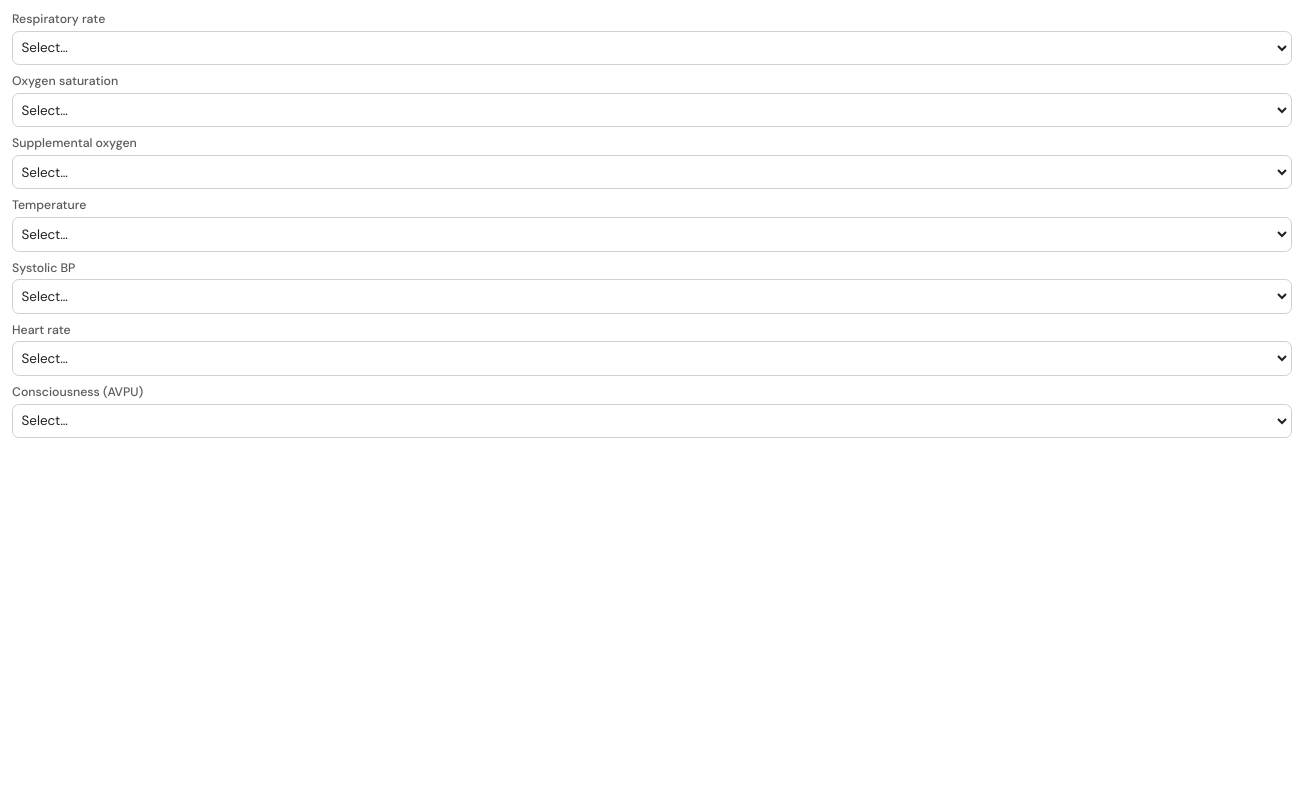
Test: CalcRenderer — choices start unselected › NEWS shows no score until every choice is picked
Expected: the dropdown below "Oxygen saturation" shows "Select…", [12, 93, 1292, 127]
Expected: the dropdown below "Supplemental oxygen" shows "Select…", [12, 155, 1292, 189]
Select "12-20 (0)" in the dropdown below "Respiratory rate" at (652, 48), box [12, 31, 1292, 65]
Select "≥96% (0)" in the dropdown below "Oxygen saturation" at (652, 110), box [12, 93, 1292, 127]
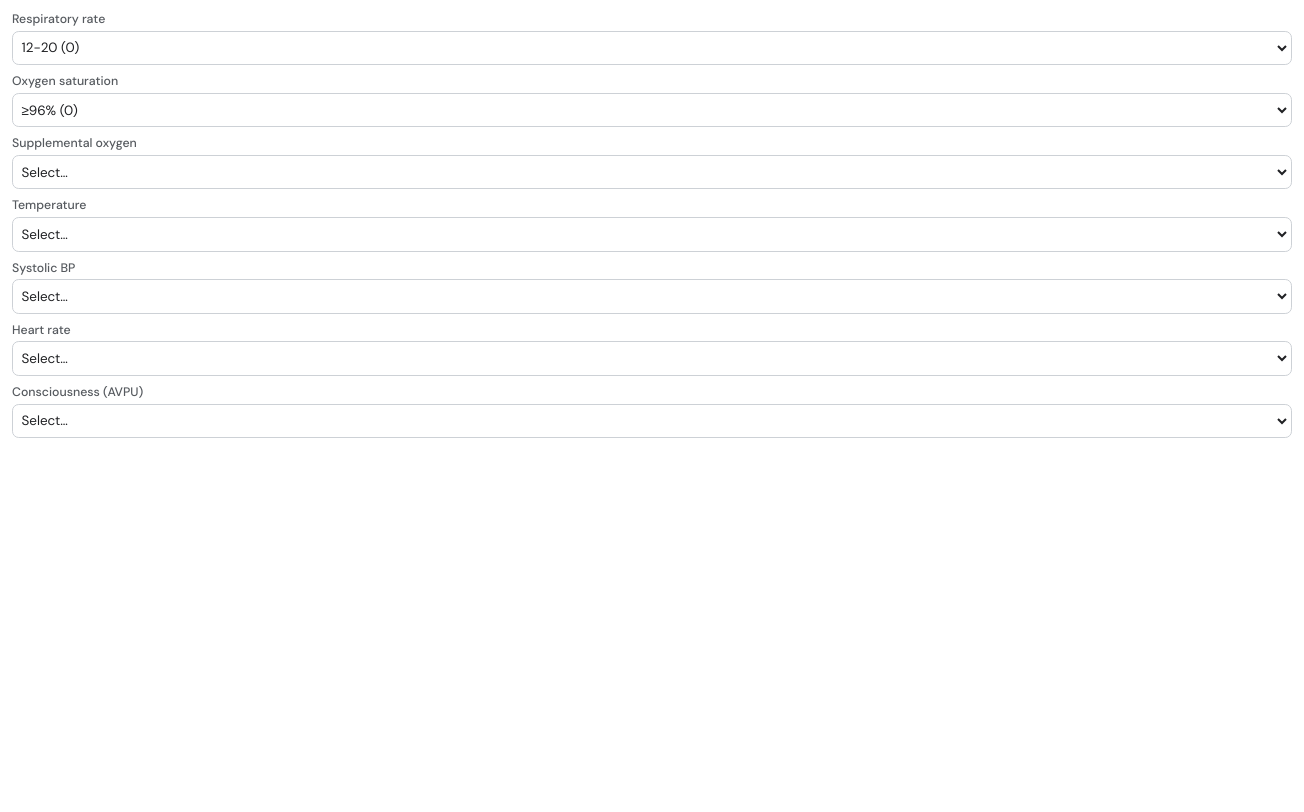
Select "No (0)" in the dropdown below "Supplemental oxygen" at (652, 172), box [12, 155, 1292, 189]
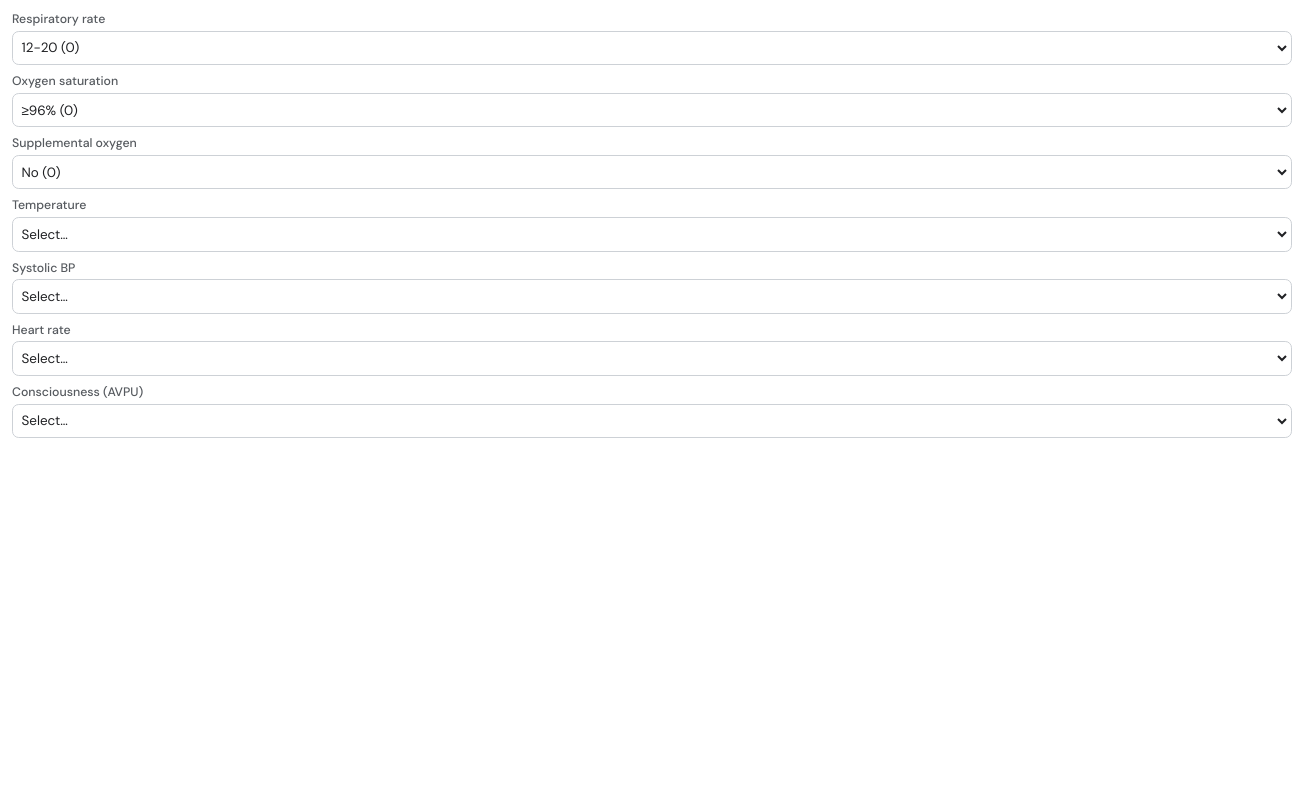
Select "36.1-38.0°C (0)" in the dropdown below "Temperature" at (652, 234), box [12, 217, 1292, 252]
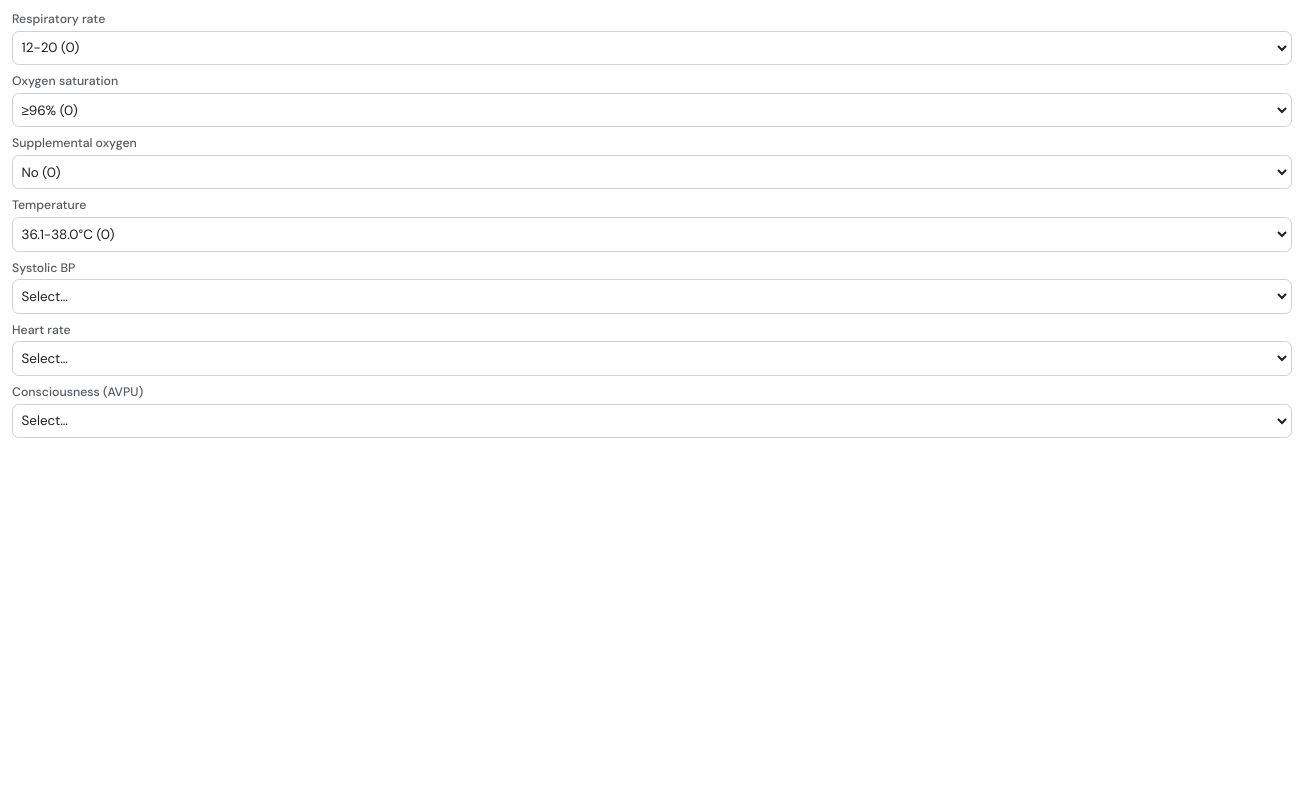
Select "111-219 (0)" in the dropdown below "Systolic BP" at (652, 296), box [12, 279, 1292, 314]
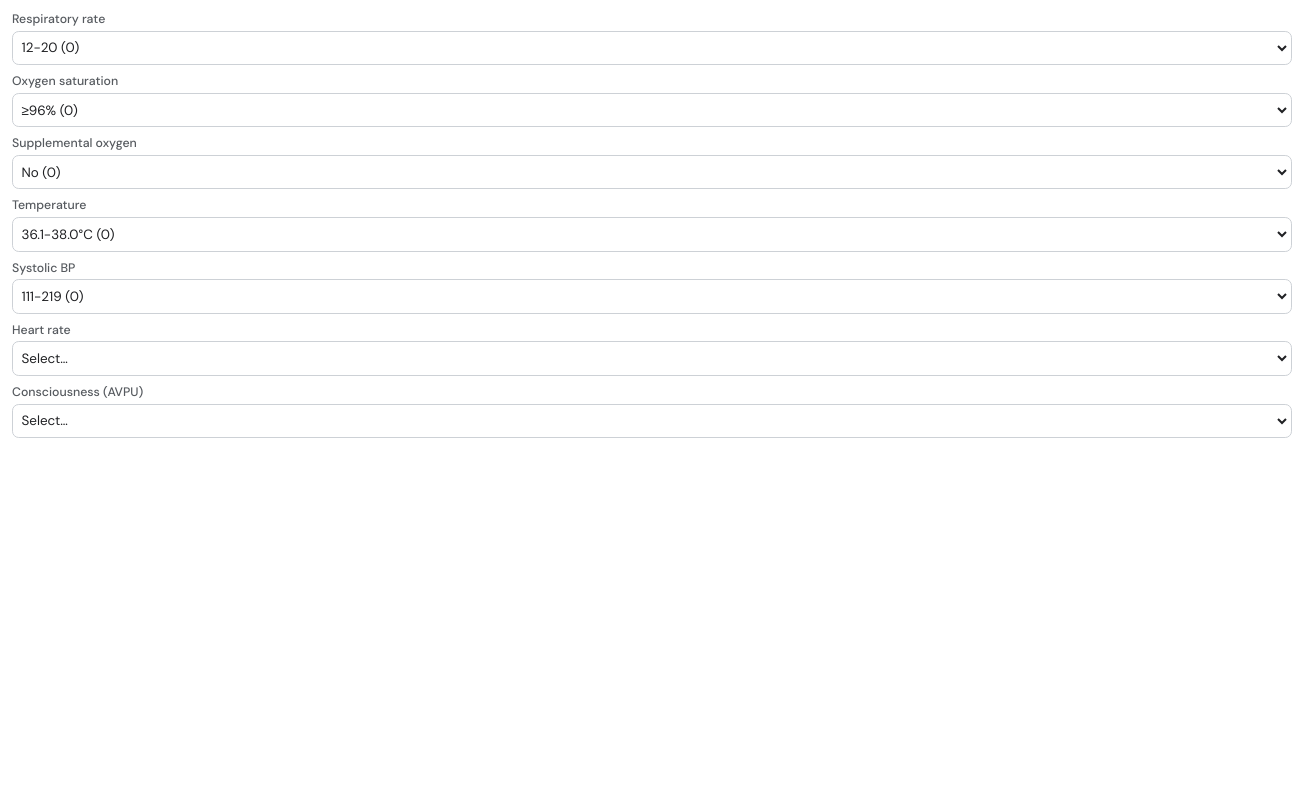
Expected: the text "Add result" is not shown
Select "51-90 (0)" in the dropdown below "Heart rate" at (652, 359), box [12, 342, 1292, 376]
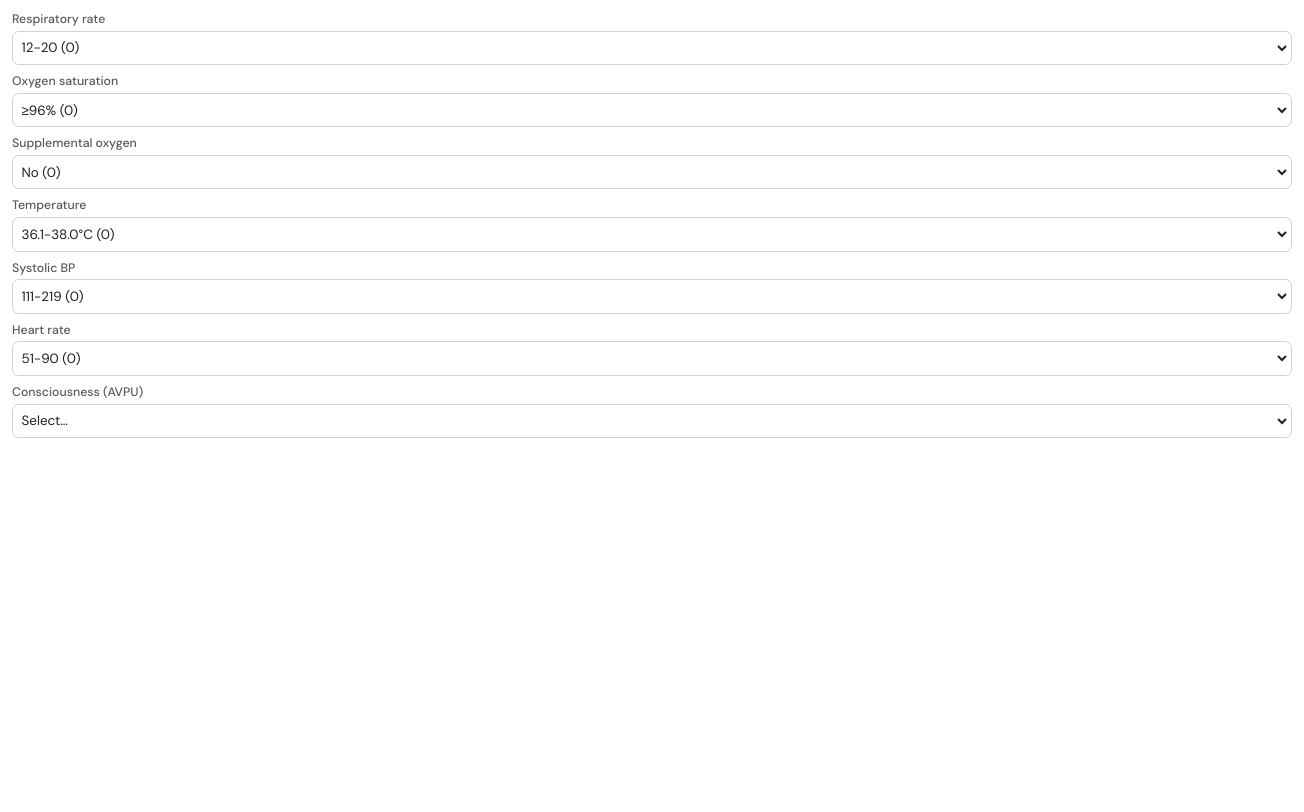
Select "Alert (0)" in the dropdown below "Consciousness (AVPU)" at (652, 421), box [12, 404, 1292, 438]
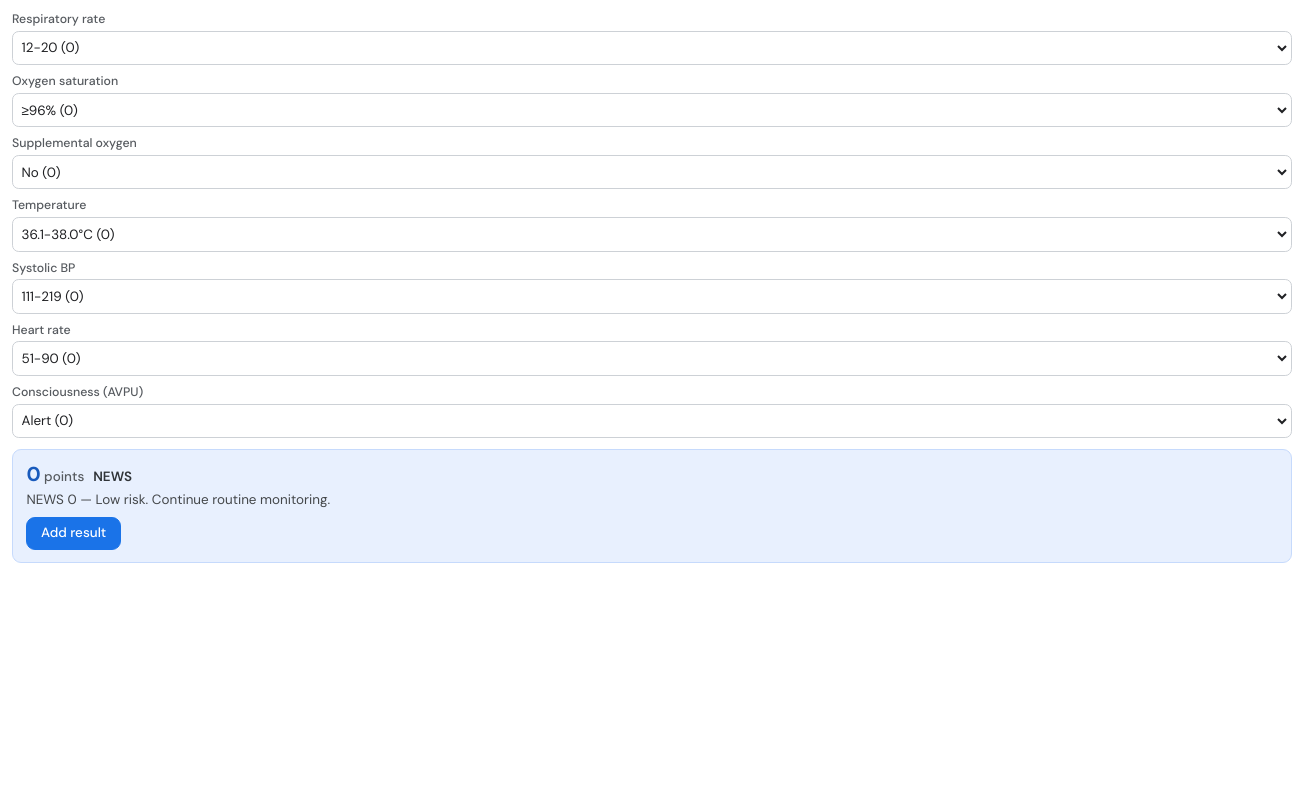
Result: the button "Add result" is shown at [26, 517, 121, 550]
